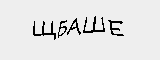А: (64, 17, 82, 39)
Б: (56, 17, 69, 41)
Е: (108, 18, 125, 38)
Ш: (83, 13, 107, 34)
Щ: (32, 16, 56, 43)
